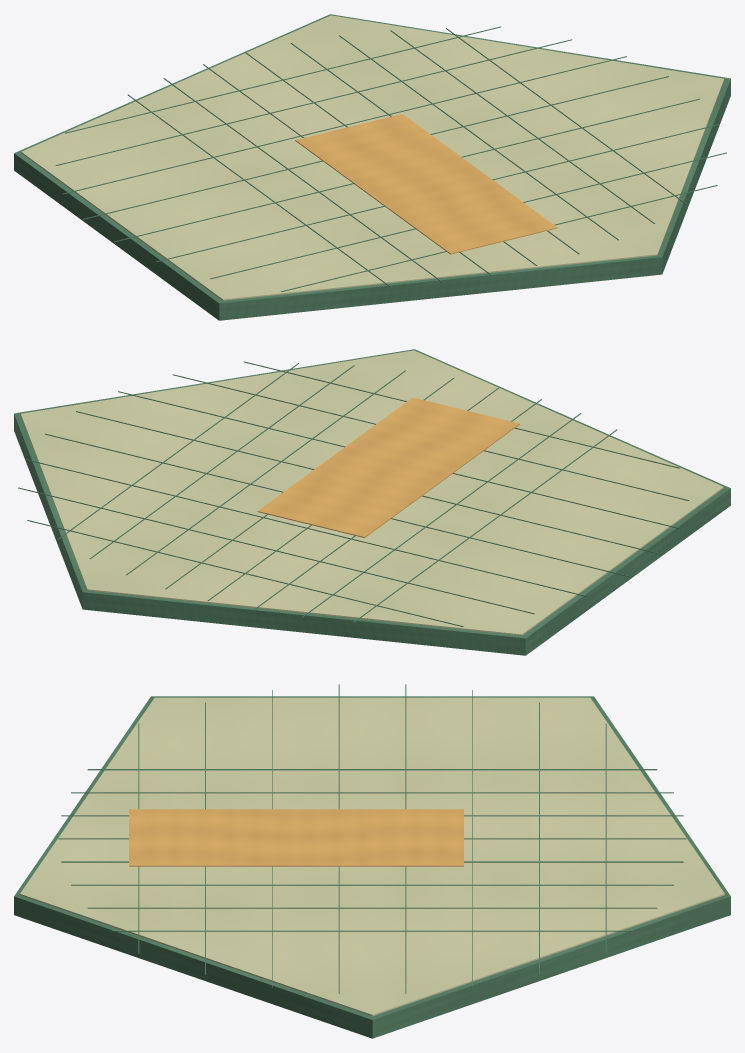
The model's file is atlas100-s005-a07.lod1.glb.
3 views of the same model, one above another, from view 1: azimuth 30°, elevation 25°; view 2: azimuth 150°, elevation 25°; view 3: azimuth 270°, elevation 25° (orthographic). The views are drawn at different scales.
Visible parts, largest first — view 1: atlas100-s005-a07:part-001, atlas100-s005-a07:part-000, atlas100-s005-a07:part-021, atlas100-s005-a07:part-015, atlas100-s005-a07:part-014, atlas100-s005-a07:part-016, atlas100-s005-a07:part-017, atlas100-s005-a07:part-018, atlas100-s005-a07:part-013, atlas100-s005-a07:part-019, atlas100-s005-a07:part-009, atlas100-s005-a07:part-005 (+3 smaller); view 2: atlas100-s005-a07:part-001, atlas100-s005-a07:part-000, atlas100-s005-a07:part-021, atlas100-s005-a07:part-015, atlas100-s005-a07:part-014, atlas100-s005-a07:part-016, atlas100-s005-a07:part-017, atlas100-s005-a07:part-018, atlas100-s005-a07:part-013, atlas100-s005-a07:part-019, atlas100-s005-a07:part-009, atlas100-s005-a07:part-005 (+3 smaller); view 3: atlas100-s005-a07:part-001, atlas100-s005-a07:part-021, atlas100-s005-a07:part-000, atlas100-s005-a07:part-009, atlas100-s005-a07:part-005, atlas100-s005-a07:part-004, atlas100-s005-a07:part-010, atlas100-s005-a07:part-011, atlas100-s005-a07:part-007, atlas100-s005-a07:part-008, atlas100-s005-a07:part-006.
Boxes of the visible parts, left/top/right/bottom form: atlas100-s005-a07:part-001: left=21, top=15, right=724, bottom=300; atlas100-s005-a07:part-000: left=14, top=14, right=730, bottom=320; atlas100-s005-a07:part-021: left=295, top=114, right=557, bottom=254; atlas100-s005-a07:part-015: left=63, top=56, right=626, bottom=194; atlas100-s005-a07:part-014: left=55, top=39, right=572, bottom=165; atlas100-s005-a07:part-016: left=82, top=76, right=668, bottom=219; atlas100-s005-a07:part-017: left=114, top=98, right=699, bottom=242; atlas100-s005-a07:part-018: left=156, top=124, right=719, bottom=262; atlas100-s005-a07:part-013: left=65, top=26, right=500, bottom=133; atlas100-s005-a07:part-019: left=210, top=152, right=726, bottom=279; atlas100-s005-a07:part-009: left=339, top=35, right=618, bottom=240; atlas100-s005-a07:part-005: left=163, top=78, right=443, bottom=283; atlas100-s005-a07:part-001: left=20, top=350, right=723, bottom=635; atlas100-s005-a07:part-000: left=14, top=349, right=730, bottom=655; atlas100-s005-a07:part-021: left=257, top=397, right=519, bottom=537; atlas100-s005-a07:part-015: left=25, top=459, right=588, bottom=597; atlas100-s005-a07:part-014: left=18, top=487, right=534, bottom=614; atlas100-s005-a07:part-016: left=45, top=433, right=630, bottom=577; atlas100-s005-a07:part-017: left=76, top=411, right=662, bottom=554; atlas100-s005-a07:part-018: left=118, top=391, right=681, bottom=529; atlas100-s005-a07:part-013: left=27, top=520, right=463, bottom=626; atlas100-s005-a07:part-019: left=172, top=374, right=689, bottom=500; atlas100-s005-a07:part-009: left=126, top=370, right=405, bottom=575; atlas100-s005-a07:part-005: left=301, top=413, right=581, bottom=618; atlas100-s005-a07:part-001: left=20, top=697, right=724, bottom=1016; atlas100-s005-a07:part-021: left=129, top=809, right=463, bottom=866; atlas100-s005-a07:part-000: left=14, top=696, right=730, bottom=1038; atlas100-s005-a07:part-009: left=71, top=884, right=673, bottom=885; atlas100-s005-a07:part-005: left=71, top=792, right=673, bottom=793; atlas100-s005-a07:part-004: left=87, top=769, right=657, bottom=770; atlas100-s005-a07:part-010: left=87, top=907, right=657, bottom=908; atlas100-s005-a07:part-011: left=112, top=930, right=632, bottom=931; atlas100-s005-a07:part-007: left=58, top=838, right=686, bottom=839; atlas100-s005-a07:part-008: left=61, top=861, right=683, bottom=862; atlas100-s005-a07:part-006: left=61, top=815, right=683, bottom=816.
Bounding box in the file's own units: 12.99 × 0.404 × 11.81.
Materials: 3 (3 with a texture image).
